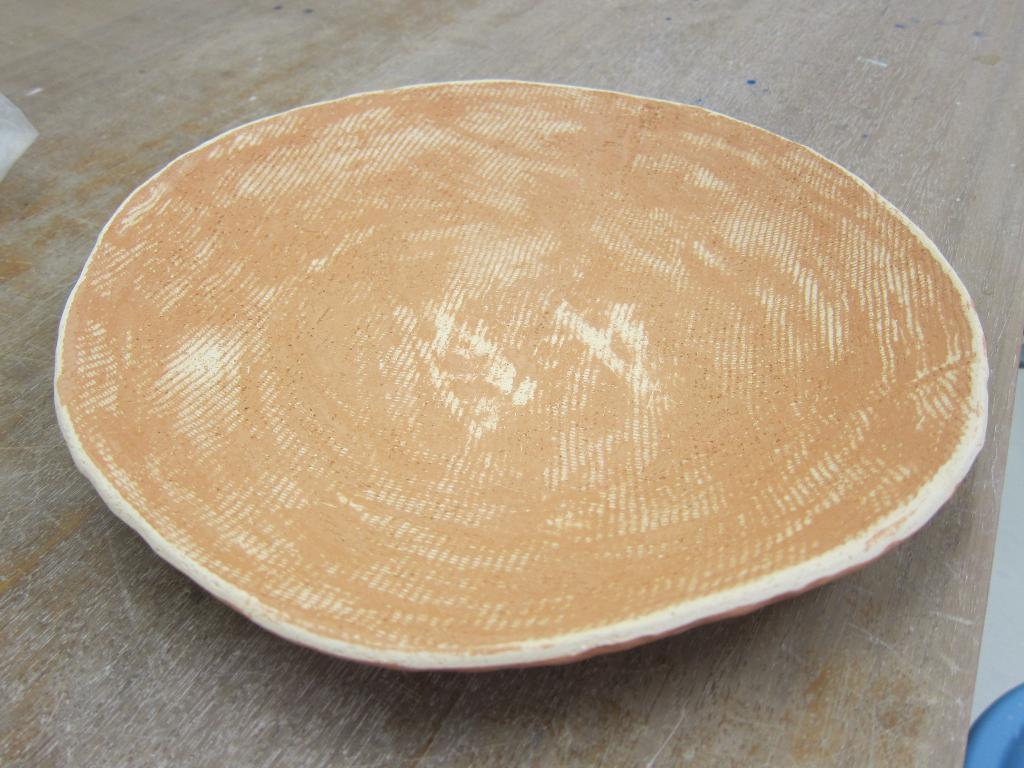plate: (53, 80, 989, 672)
